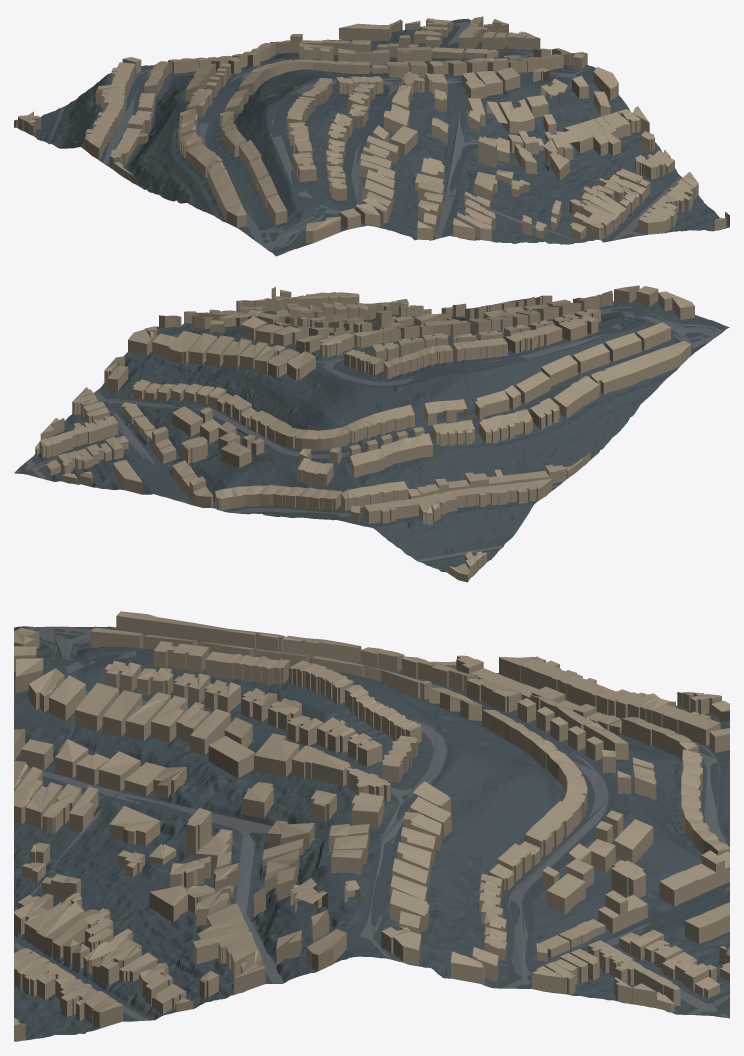
The model's file is epsg26910-1432-10877.lod0.glb.
3 renders of one model, top to bottom at view 1: azimuth 30°, elevation 25°; view 2: azimuth 150°, elevation 25°; view 3: azimuth 270°, elevation 25°, orthographic. The views are drawn at different scales.
Parts seen in each view (by area): view 1: epsg26910-1432-10877-lod0; view 2: epsg26910-1432-10877-lod0; view 3: epsg26910-1432-10877-lod0.
Boxes of the visible parts, x1,y1,x2,y2 form: epsg26910-1432-10877-lod0: [14, 16, 729, 256]; epsg26910-1432-10877-lod0: [14, 285, 729, 582]; epsg26910-1432-10877-lod0: [14, 611, 729, 1041].
Bounding box in the file's own units: 384 × 93.31 × 384.
